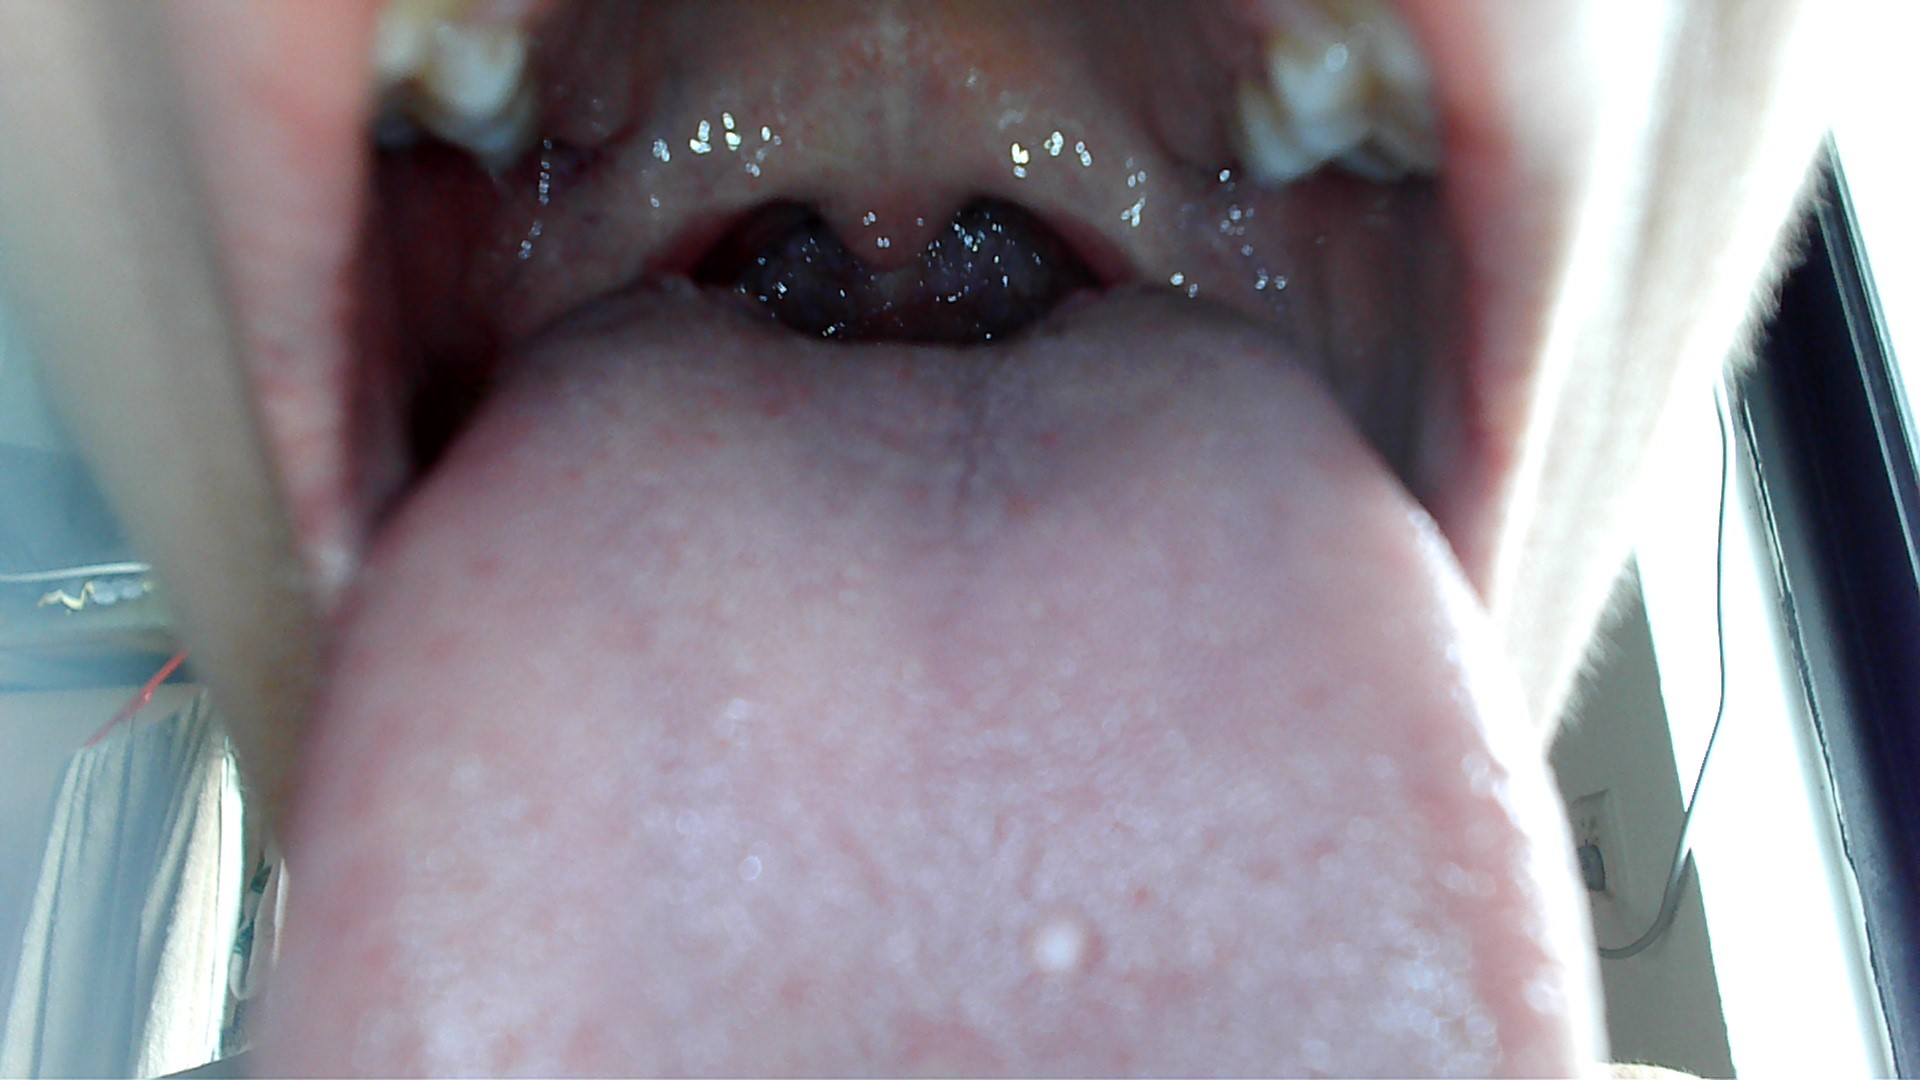throat: (522, 171, 735, 284), (1042, 171, 1211, 287)
